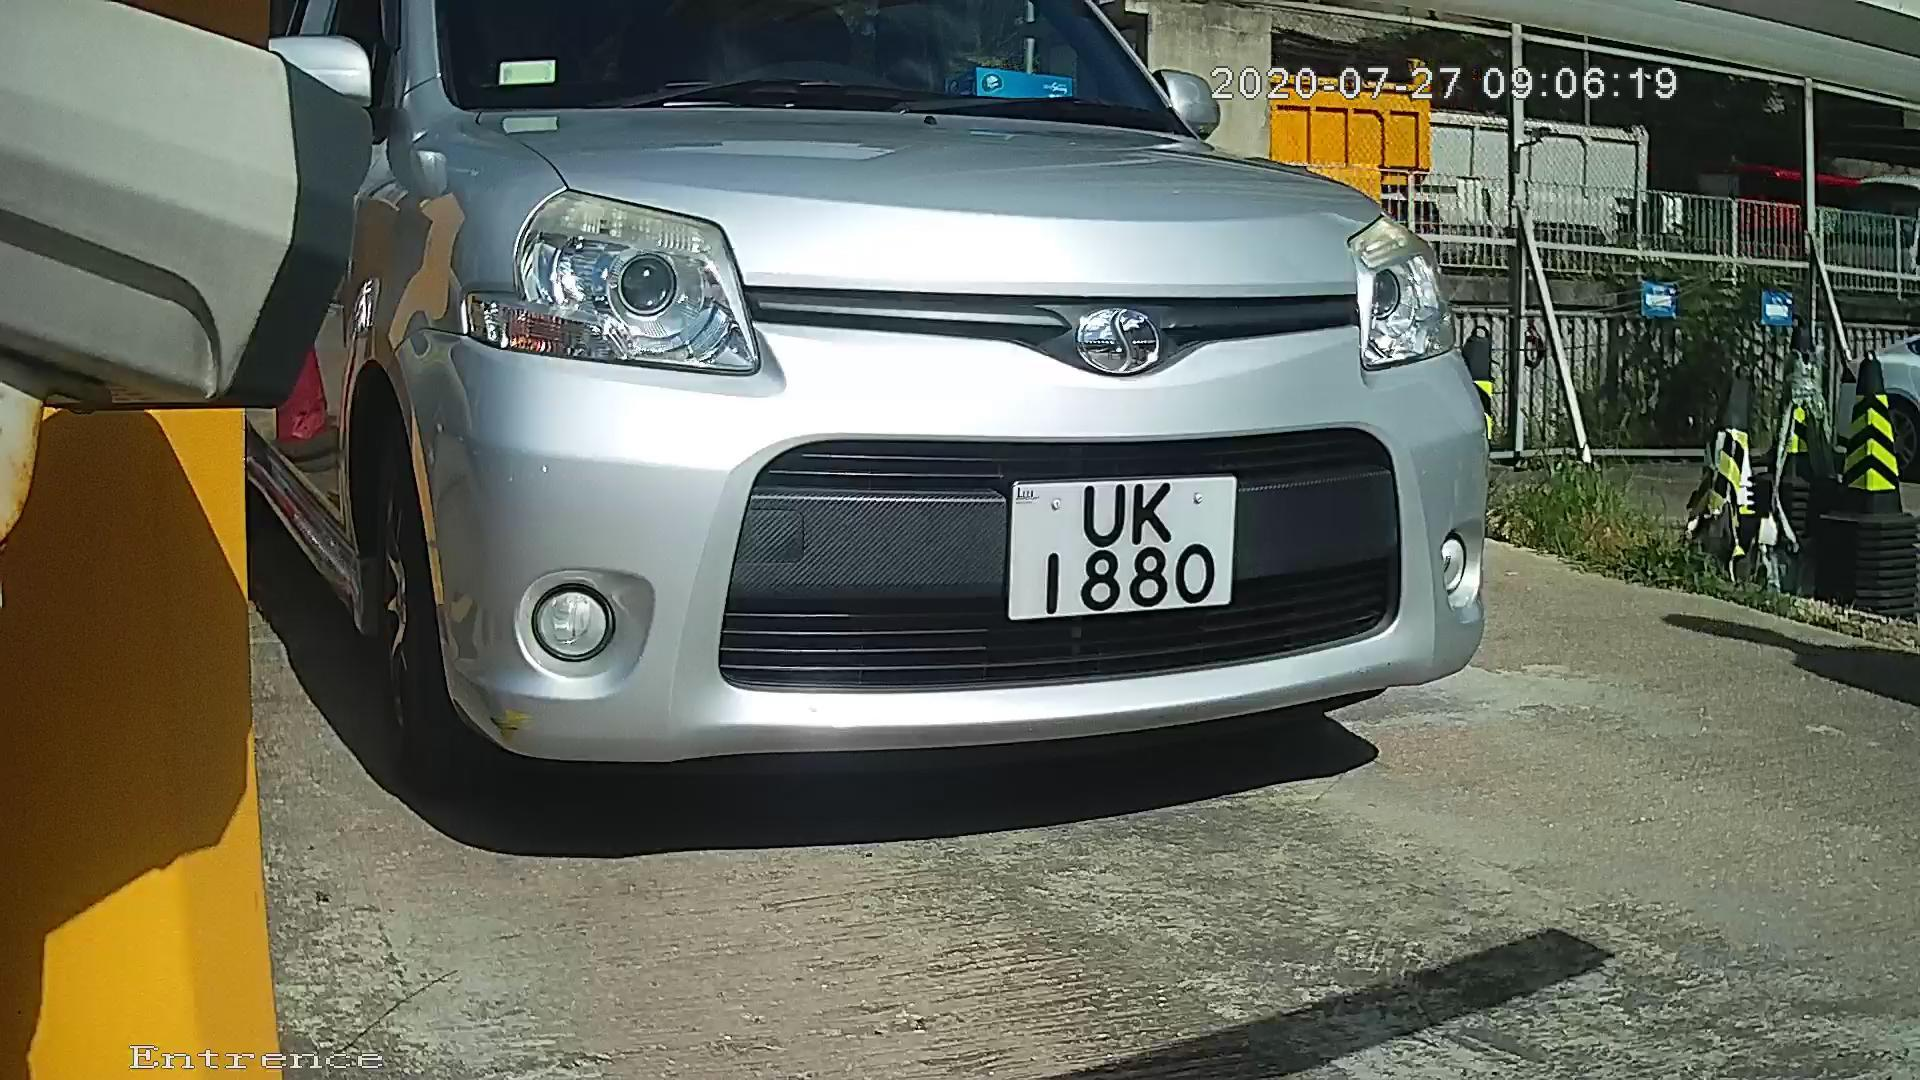Car: (163, 29, 1552, 868)
License Plate: (986, 463, 1252, 632)
